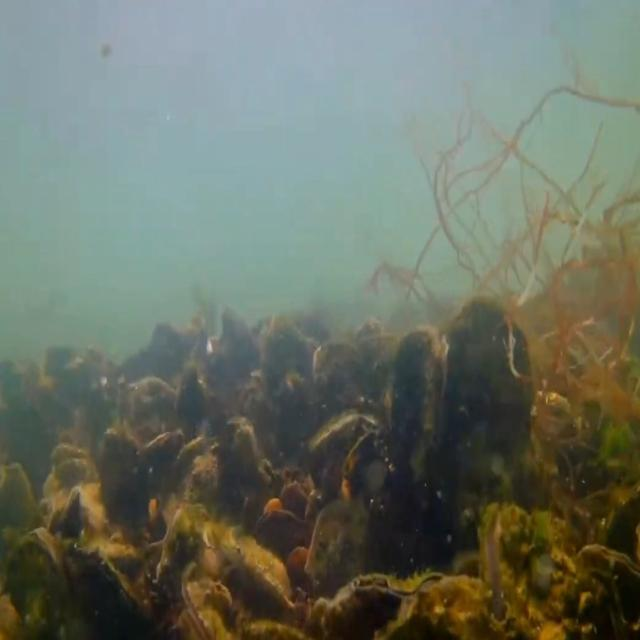Oyster-Closed: (58, 541, 148, 640), (158, 502, 208, 614), (180, 578, 227, 640), (52, 484, 82, 538)
Oyster-Indeterminate: (445, 295, 533, 488), (392, 324, 450, 484), (6, 526, 75, 640), (306, 499, 373, 593), (99, 420, 149, 528), (234, 535, 293, 602), (0, 461, 35, 572), (224, 413, 266, 504)
Oyster-Open: (478, 500, 577, 640), (306, 410, 387, 498), (171, 435, 221, 500), (48, 437, 95, 481)
